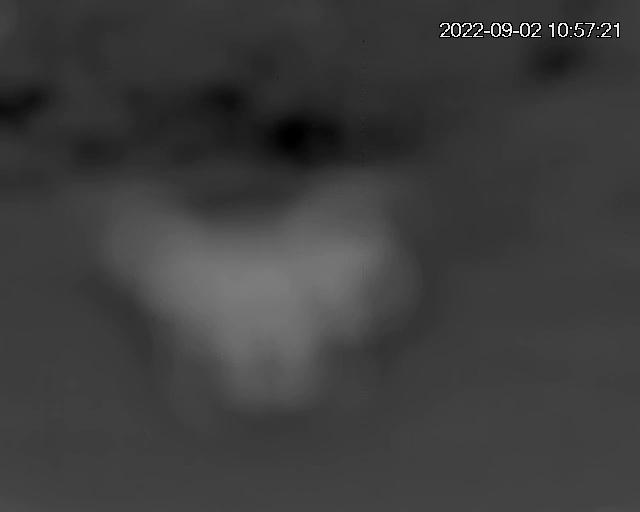DJI-Phantom: (126, 212, 401, 414)
